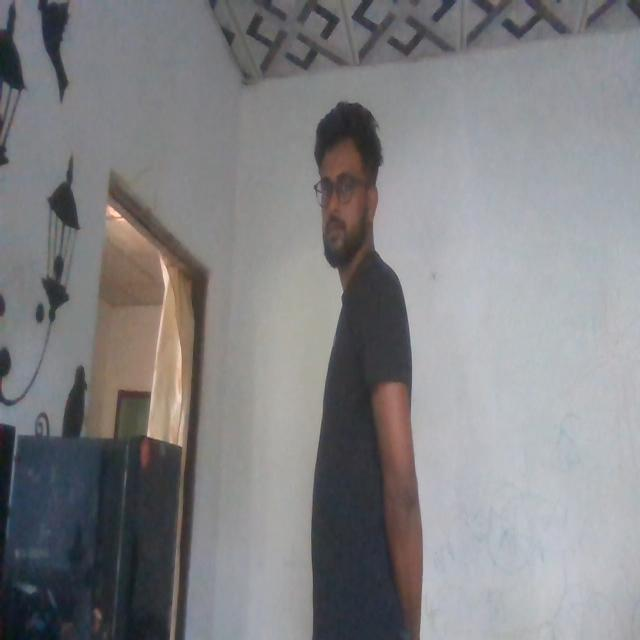Person: (291, 105, 441, 640)
